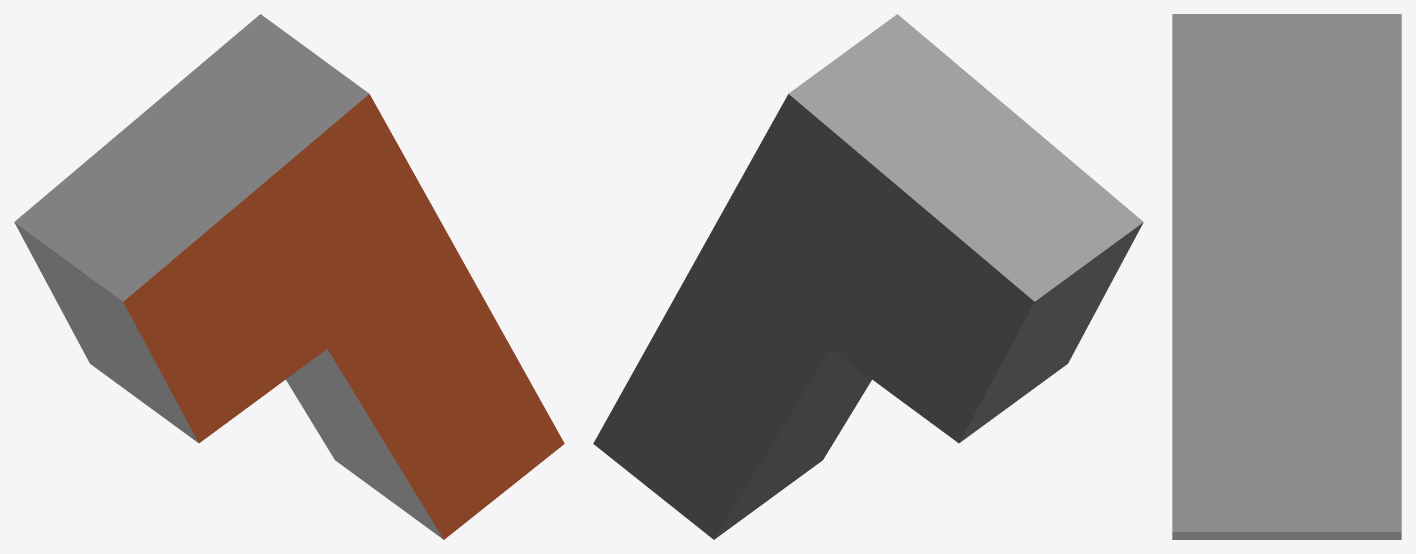
Rendered from construction_6054_assumed_A_Casa_h6m.obj.
The picture shows the model from 3 angles, left to right: view 1: azimuth 30°, elevation 25°; view 2: azimuth 150°, elevation 25°; view 3: azimuth 270°, elevation 25°; orthographic projection. The views are drawn at different scales.
Visible parts, largest first — view 1: construction_6054_assumed_A_Casa; view 2: construction_6054_assumed_A_Casa; view 3: construction_6054_assumed_A_Casa.
Boxes of the visible parts, <box> form: construction_6054_assumed_A_Casa: <box>14,14,564,539</box>; construction_6054_assumed_A_Casa: <box>593,14,1143,539</box>; construction_6054_assumed_A_Casa: <box>1172,14,1401,539</box>.
Bounding box in the file's own units: 14.03 × 14.1 × 6.
